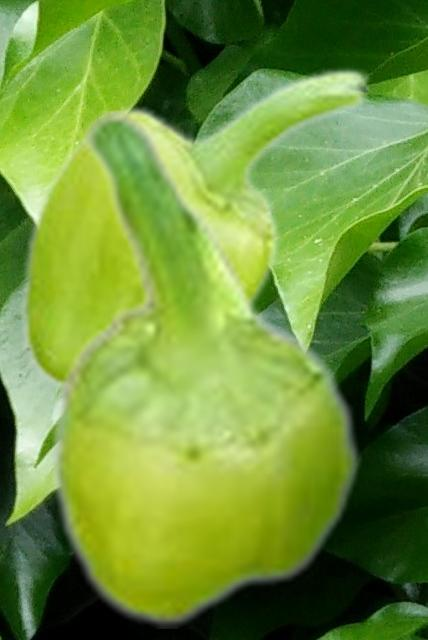bell_pepper: (48, 111, 361, 627), (18, 65, 371, 396)
